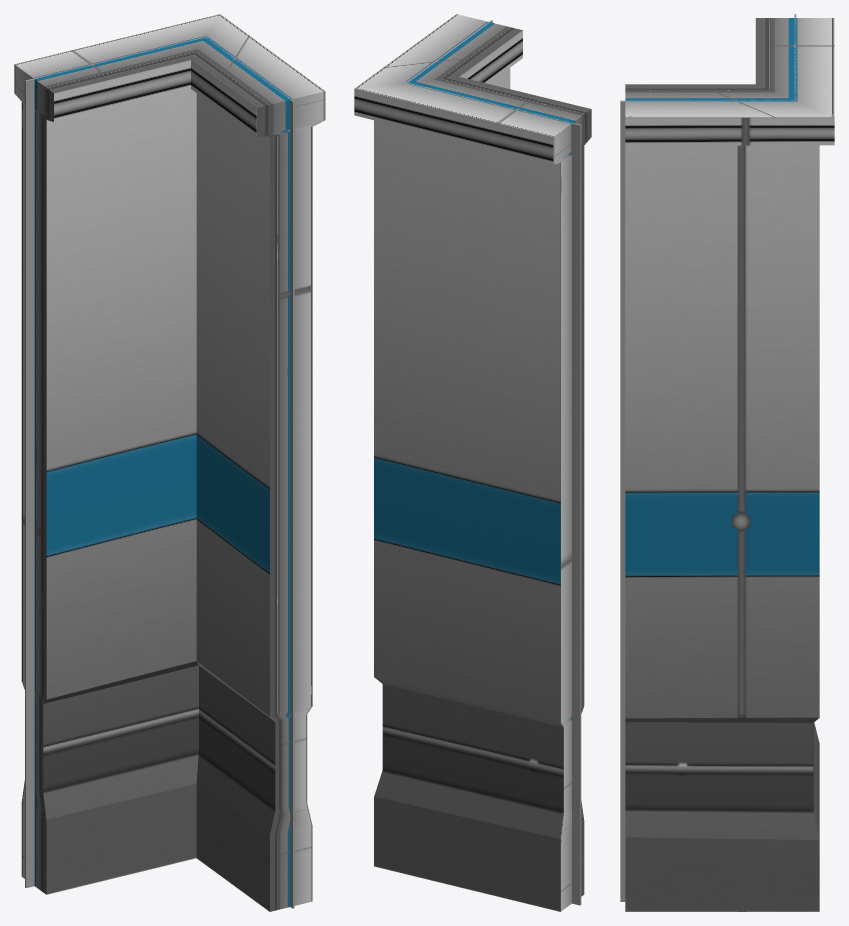
Rendered from CRL_LM_SU_BB.fbx.
The picture shows the model from 3 angles, left to right: view 1: azimuth 30°, elevation 25°; view 2: azimuth 150°, elevation 25°; view 3: azimuth 270°, elevation 25°; orthographic projection. The views are drawn at different scales.
Parts seen in each view (by area): view 1: CRL_LM_SU_BB; view 2: CRL_LM_SU_BB; view 3: CRL_LM_SU_BB.
Boxes of the visible parts, box(x1,y1,x2,y2) form: CRL_LM_SU_BB: box(14, 14, 325, 911); CRL_LM_SU_BB: box(354, 14, 591, 911); CRL_LM_SU_BB: box(620, 14, 834, 911).
Size of the model in its own units: 1.25 by 4.5 by 1.09.
